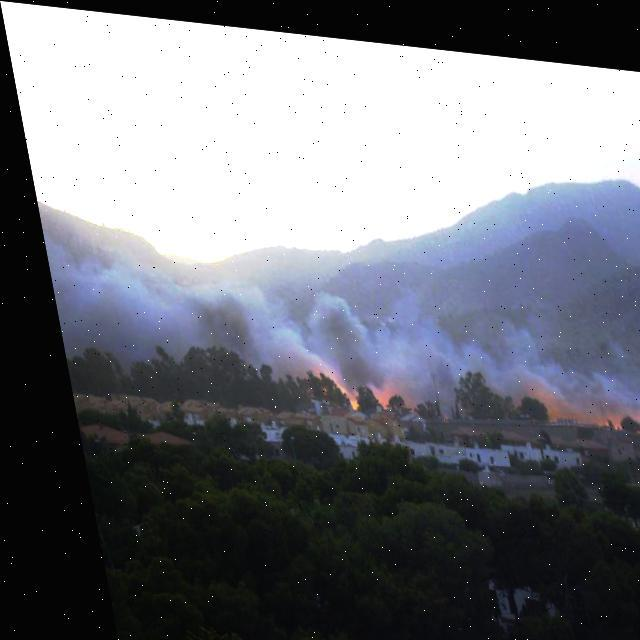Fire: (330, 386, 347, 404), (623, 406, 639, 421)
